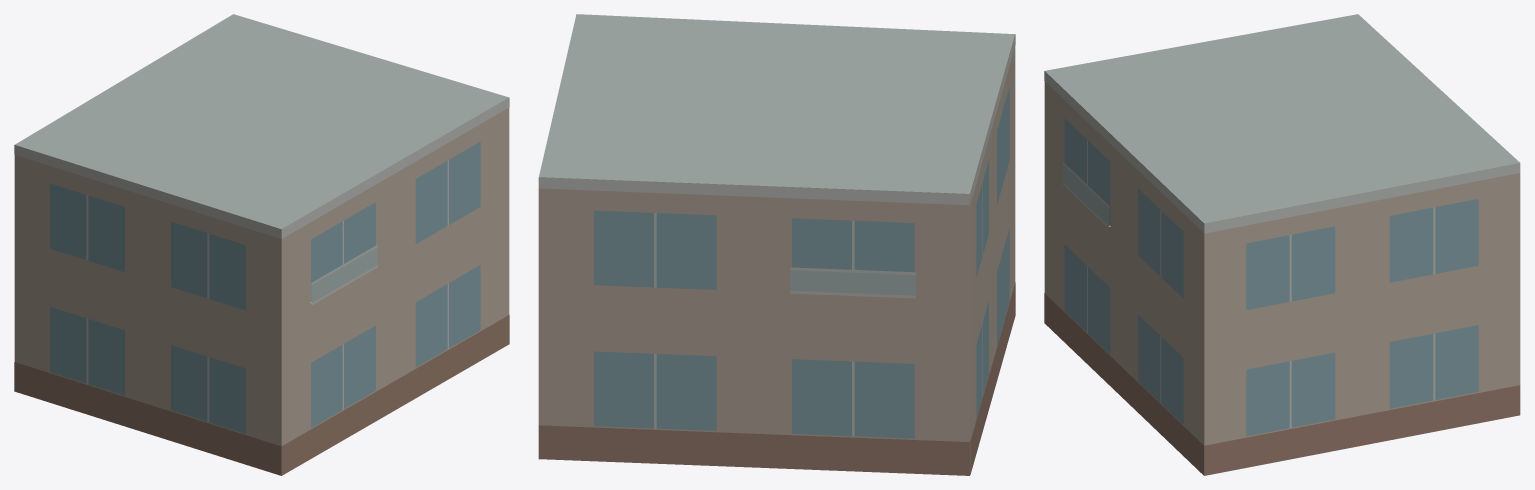
File: survey-upis-32474796.glb
The picture shows the model from 3 angles, left to right: view 1: azimuth 30°, elevation 25°; view 2: azimuth 150°, elevation 25°; view 3: azimuth 270°, elevation 25°; orthographic projection. The views are drawn at different scales.
Visible parts, largest first — view 1: survey-upis-32474796.tmp; view 2: survey-upis-32474796.tmp; view 3: survey-upis-32474796.tmp.
Boxes of the visible parts, <box> form: survey-upis-32474796.tmp: <box>14,14,509,475</box>; survey-upis-32474796.tmp: <box>538,14,1015,475</box>; survey-upis-32474796.tmp: <box>1044,14,1520,475</box>.
Bounding box in the file's own units: 10.87 × 6.1 × 10.43.
